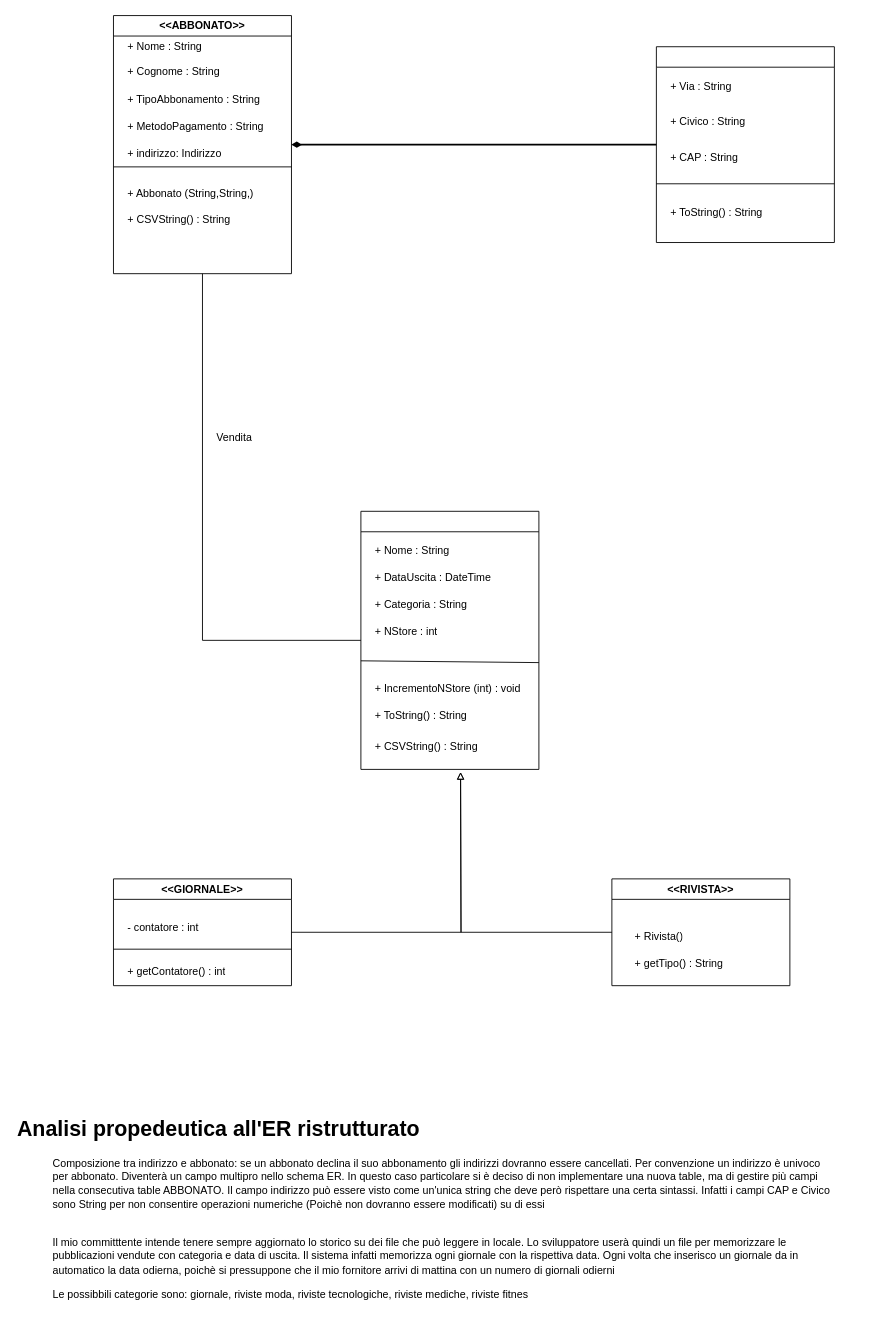
Some shapes in this 885 by 1342 pixel diagram are drawn without their labels. The shapes that lost their labels are listed below. From the top down, each one's box as (x1, y1, x2, y2) in pixels, then its label:
(655, 46, 834, 243): <<INDIRIZZO>>
(360, 510, 539, 769): <<PUBBLICAZIONE>>
